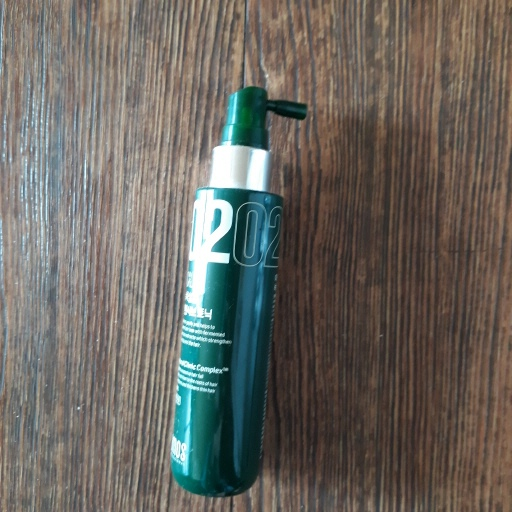Plastic_3: (171, 86, 308, 495)
